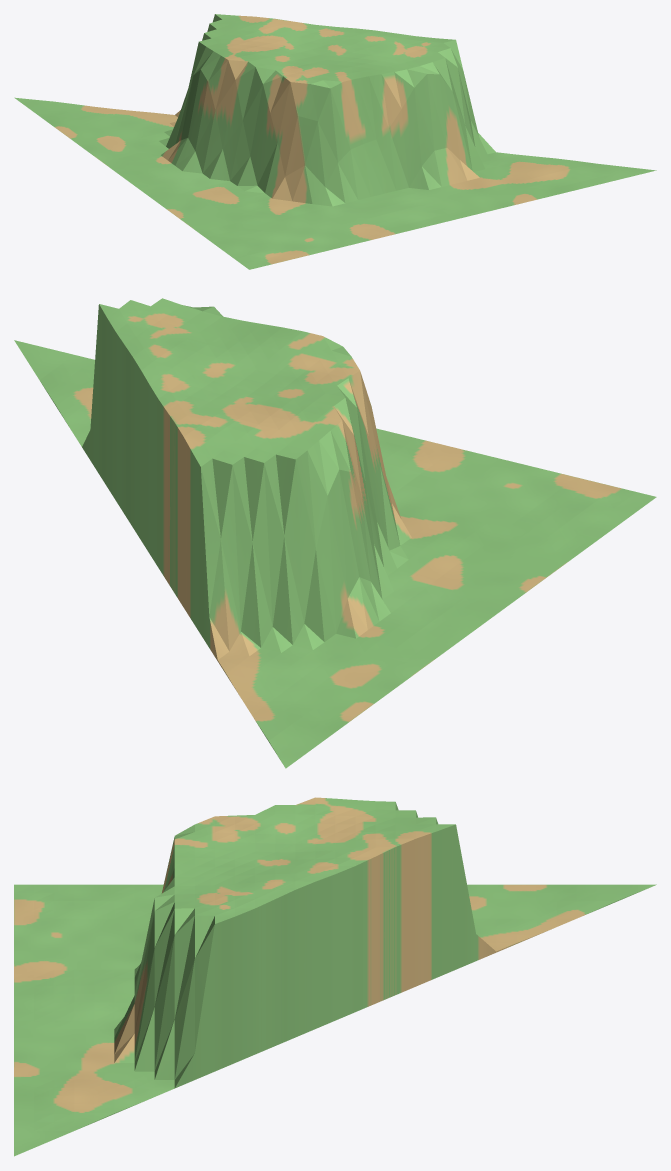
The model's file is Grass_Hills_12_NW.obj.
3 renders of one model, top to bottom at view 1: azimuth 30°, elevation 25°; view 2: azimuth 150°, elevation 25°; view 3: azimuth 270°, elevation 25°, orthographic. The views are drawn at different scales.
Size of the model in its own units: 10 by 2.54 by 10.
1 material, 1 textured.
